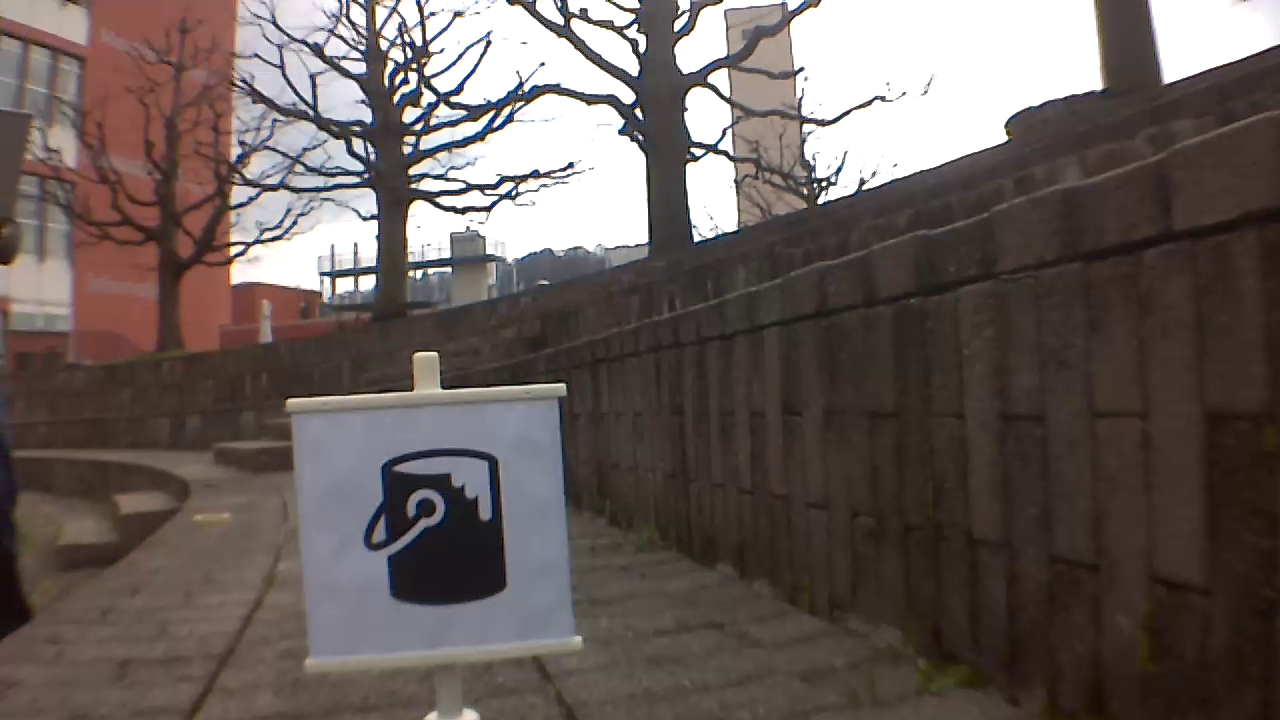bucket: (360, 441, 512, 614)
